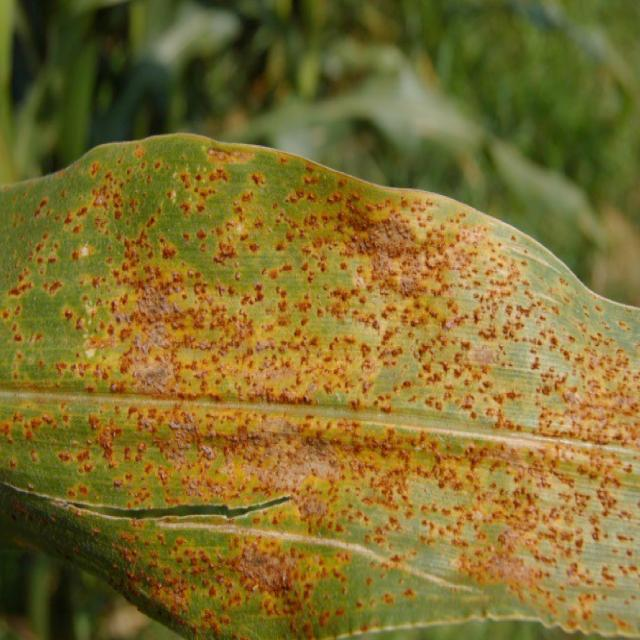leaf_rust: (0, 135, 639, 639)
